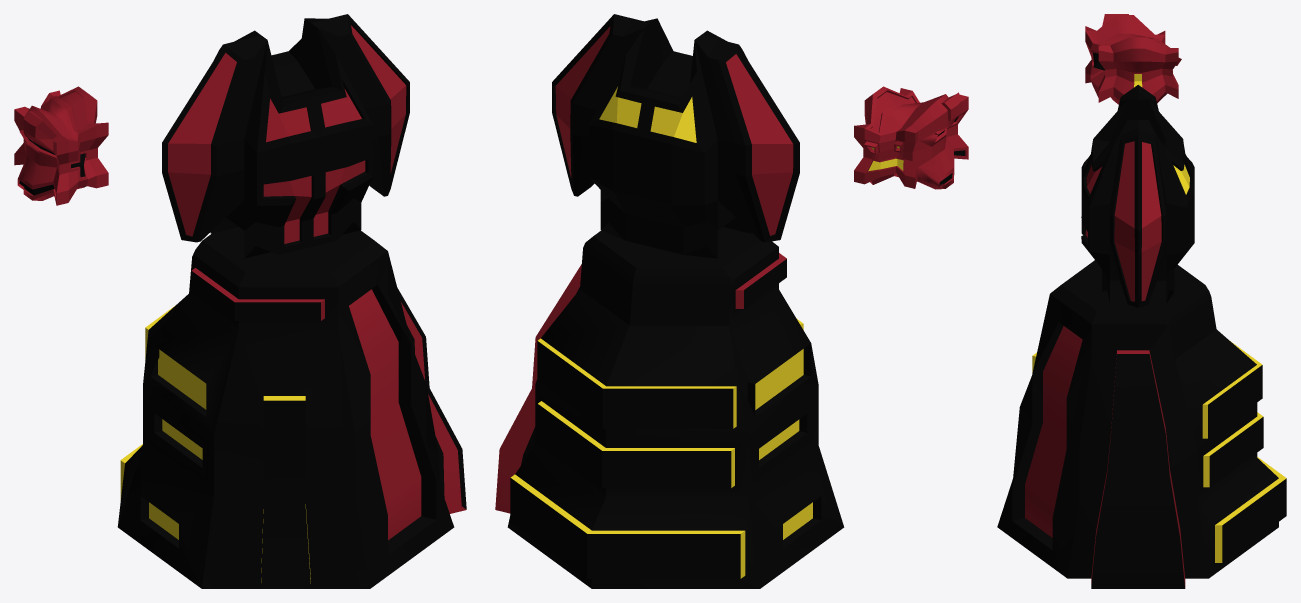
The model's file is SupportTowerBerserk.fbx.
3 views of the same model, side by side, from view 1: azimuth 30°, elevation 25°; view 2: azimuth 150°, elevation 25°; view 3: azimuth 270°, elevation 25° (orthographic). The views are drawn at different scales.
Parts seen in each view (by area): view 1: Cylinder, Cube.001, Cube; view 2: Cylinder, Cube.001, Cube; view 3: Cylinder, Cube.001, Cube.
Boxes of the visible parts, <box> form: Cylinder: <box>117,227,466,588</box>; Cube.001: <box>162,14,409,258</box>; Cube: <box>14,86,108,205</box>; Cylinder: <box>495,227,844,588</box>; Cube.001: <box>552,14,799,258</box>; Cube: <box>854,86,968,189</box>; Cylinder: <box>997,260,1286,588</box>; Cube.001: <box>1081,85,1194,307</box>; Cube: <box>1085,14,1181,104</box>.
Size of the model in its own units: 289 by 327 by 205.
